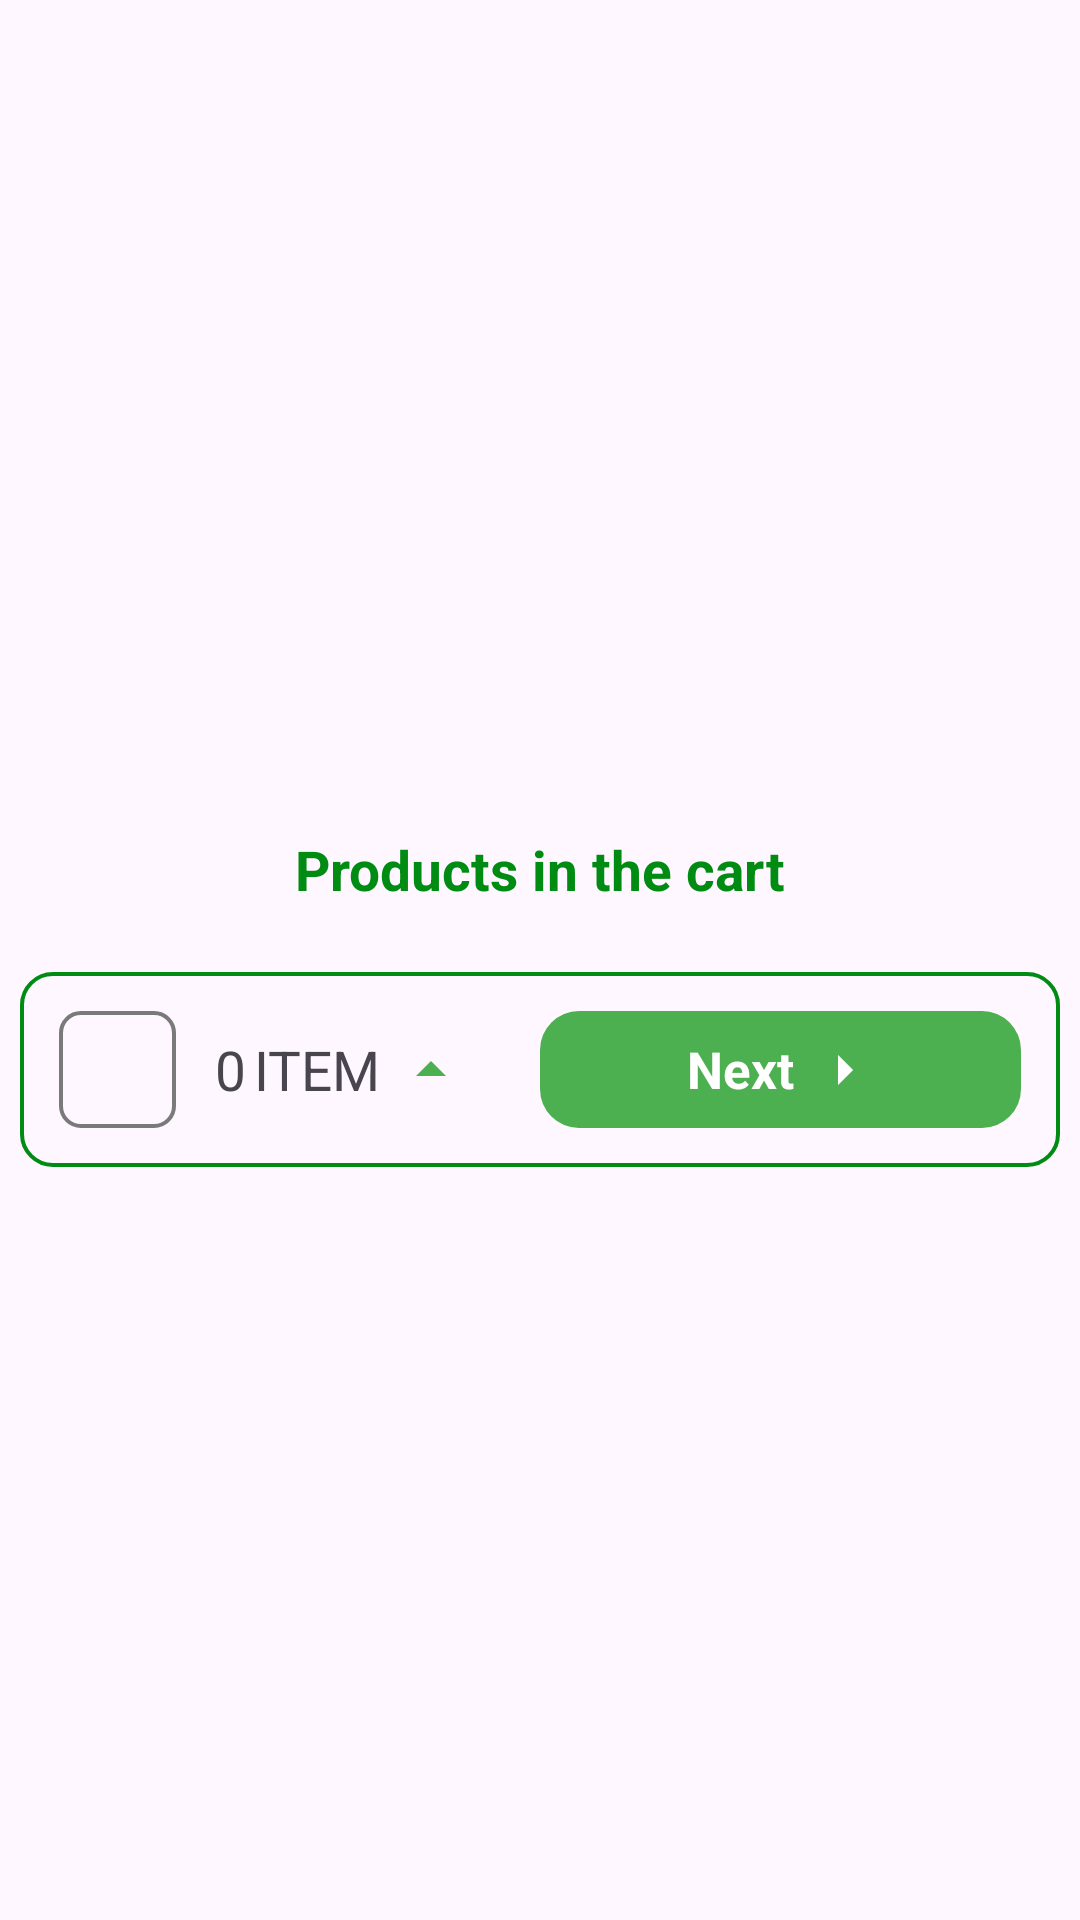

Screen size 1080px x 1920px. Icon name, then its box in pixels as (x1, y1, x2, y2):
arrow drop up: (416, 1061, 446, 1076)
arrow right: (838, 1055, 853, 1085)
